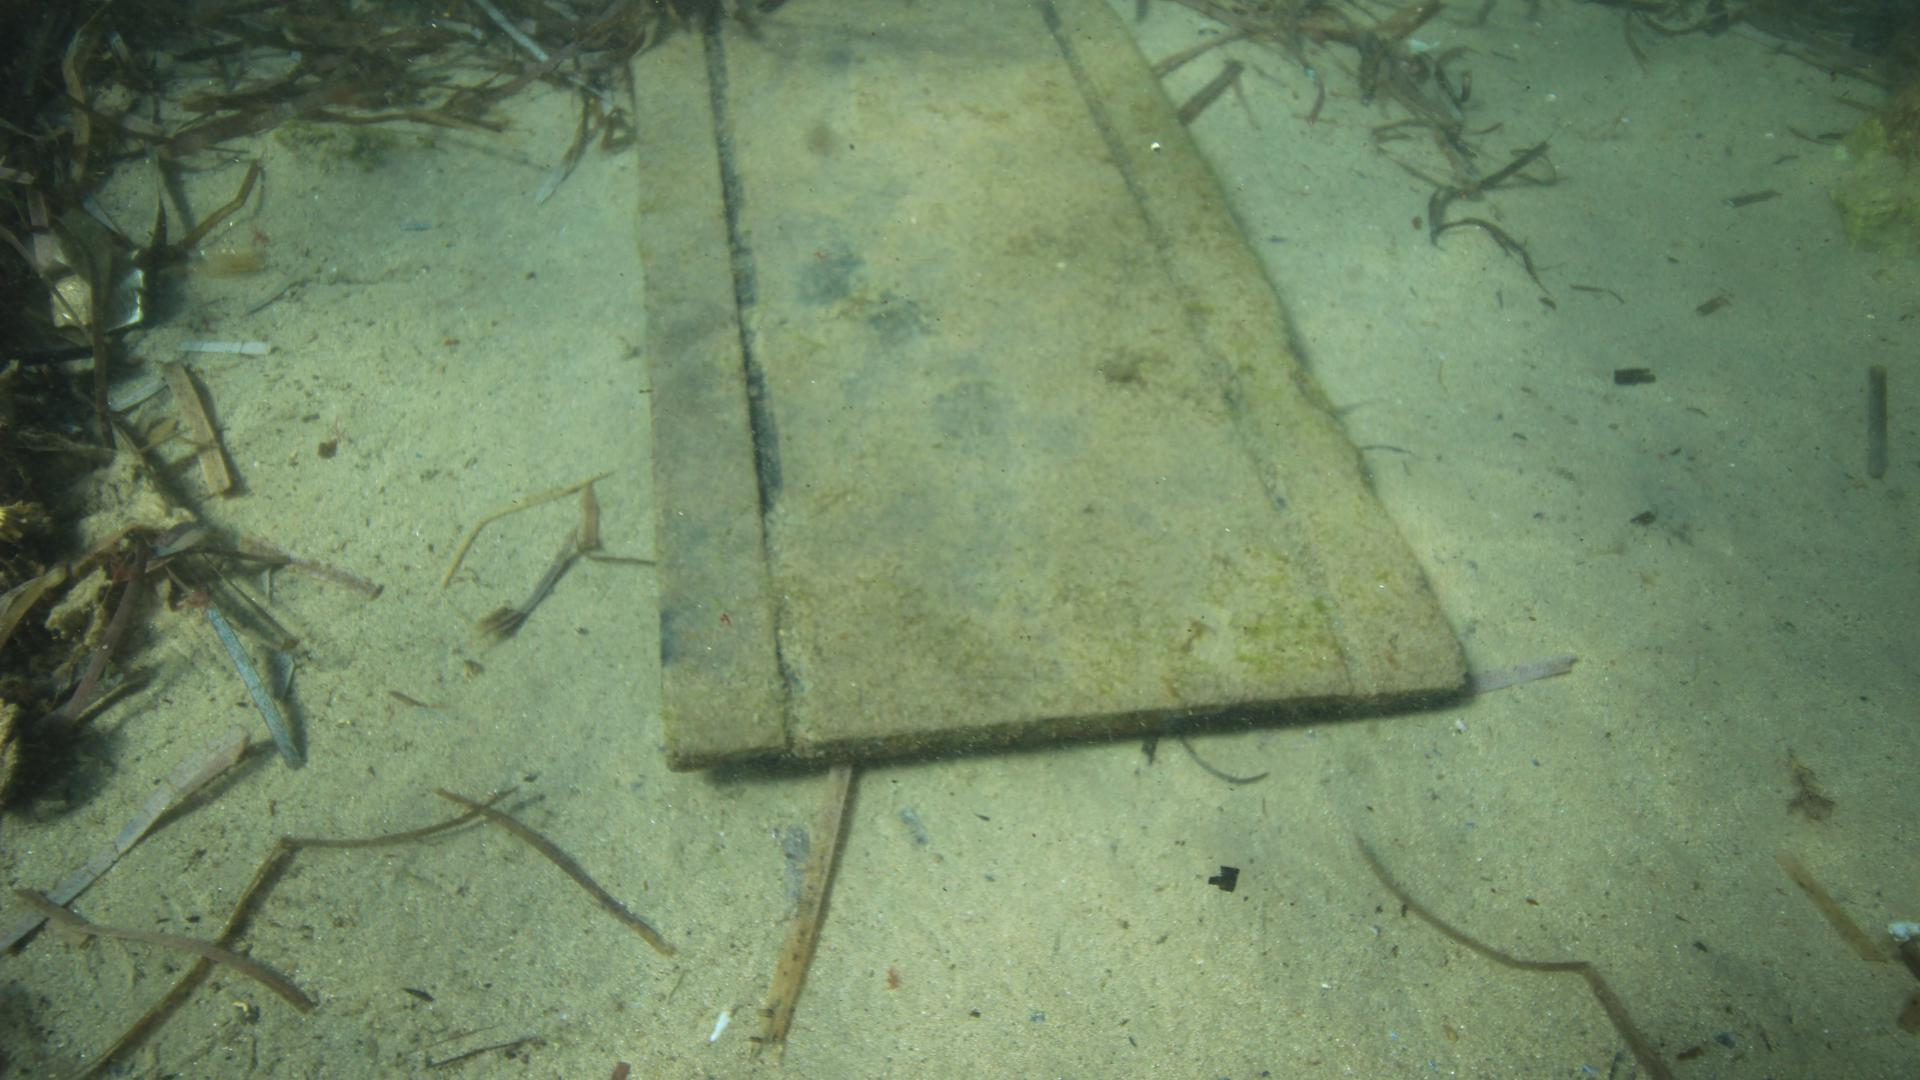wood: (629, 0, 1476, 775)
